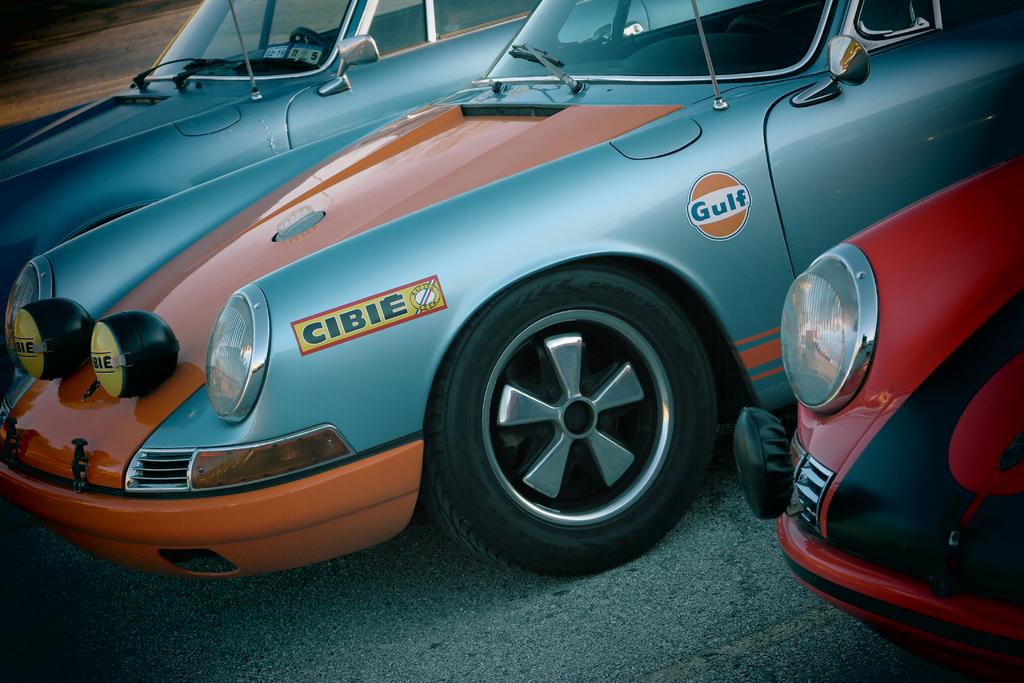Car: (0, 0, 1023, 579), (0, 0, 538, 312), (735, 154, 1023, 682)
